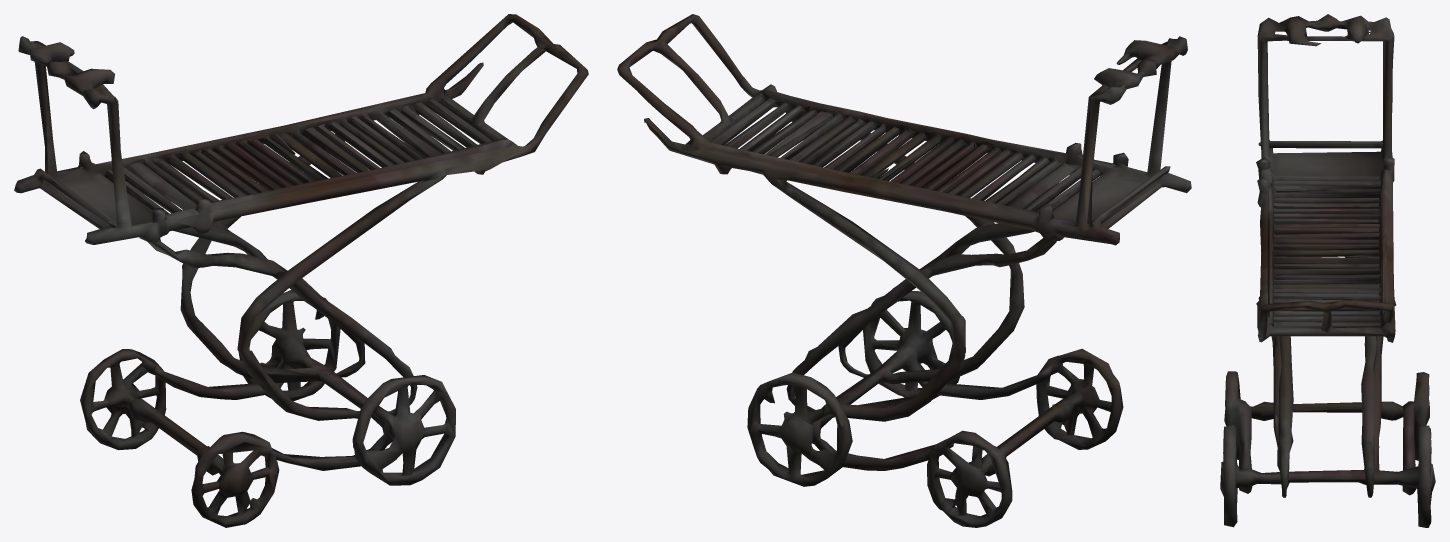
File: ornate-iron-gurney-v002.glb
3 views of the same model, side by side, from view 1: azimuth 30°, elevation 25°; view 2: azimuth 150°, elevation 25°; view 3: azimuth 270°, elevation 25° (orthographic). The views are drawn at different scales.
Parts seen in each view (by area): view 1: ornate-iron-gurney; view 2: ornate-iron-gurney; view 3: ornate-iron-gurney.
Part boxes in pixels (bbox=[...]): ornate-iron-gurney: bbox=[14, 14, 588, 527]; ornate-iron-gurney: bbox=[617, 14, 1191, 527]; ornate-iron-gurney: bbox=[1220, 14, 1435, 527].
Bounding box in the file's own units: 0.9493 × 0.8241 × 0.4148.
1 material, 1 textured.
